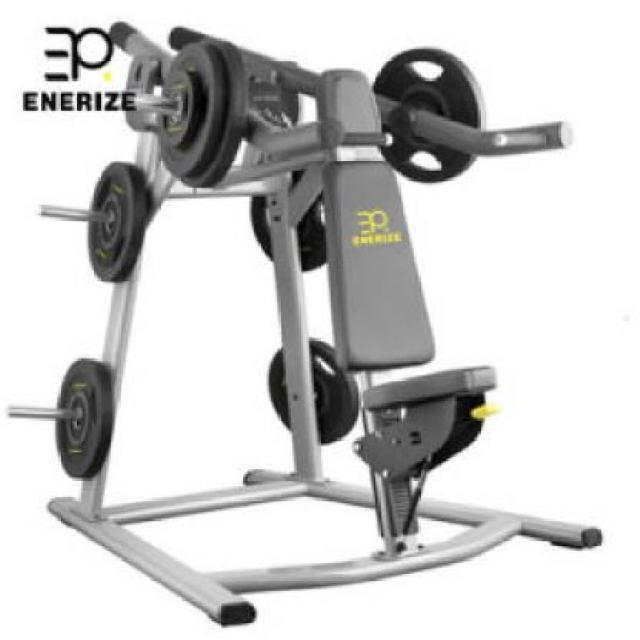shoulder press machine: (110, 20, 602, 620)
